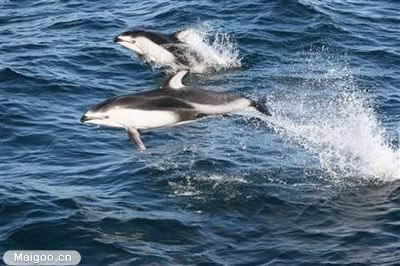fish: (75, 70, 273, 152), (112, 27, 217, 74)
